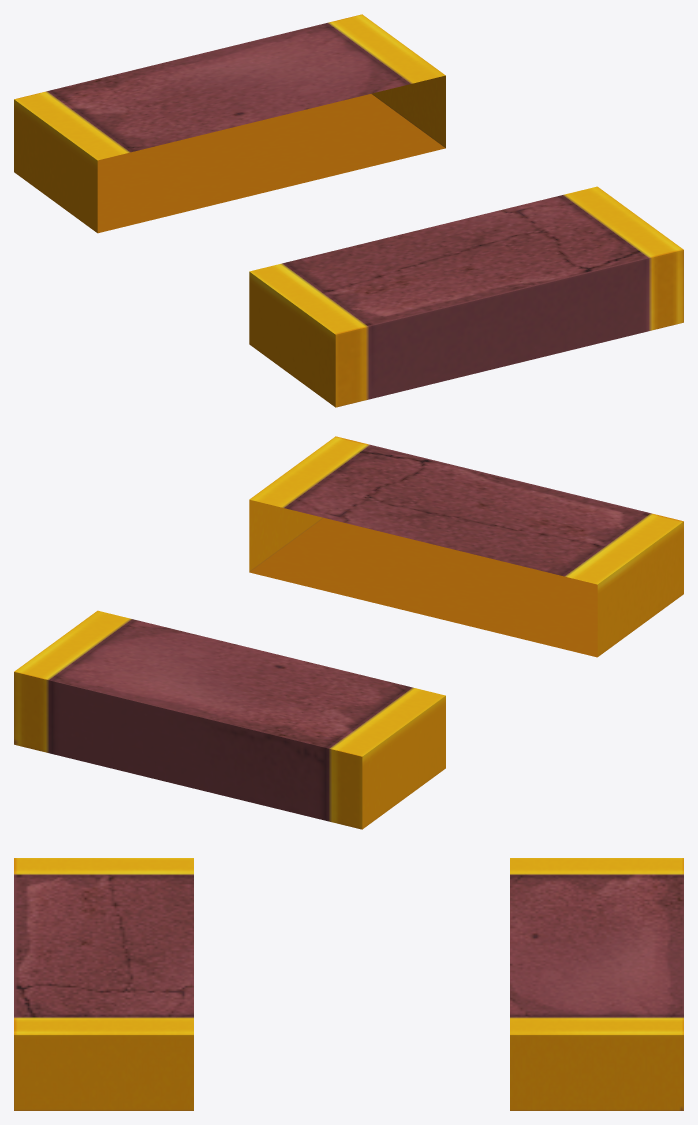
File: Split_path.fbx
3 views of the same model, one above another, from view 1: azimuth 30°, elevation 25°; view 2: azimuth 150°, elevation 25°; view 3: azimuth 270°, elevation 25° (orthographic). The views are drawn at different scales.
Parts seen in each view (by area): view 1: group13_polySurface8; view 2: group13_polySurface8; view 3: group13_polySurface8.
Part boxes in pixels (bbox=[...]): group13_polySurface8: bbox=[14, 14, 683, 407]; group13_polySurface8: bbox=[14, 436, 683, 829]; group13_polySurface8: bbox=[14, 858, 683, 1110].
Bounding box in the file's own units: 2.5 × 0.5 × 4.
